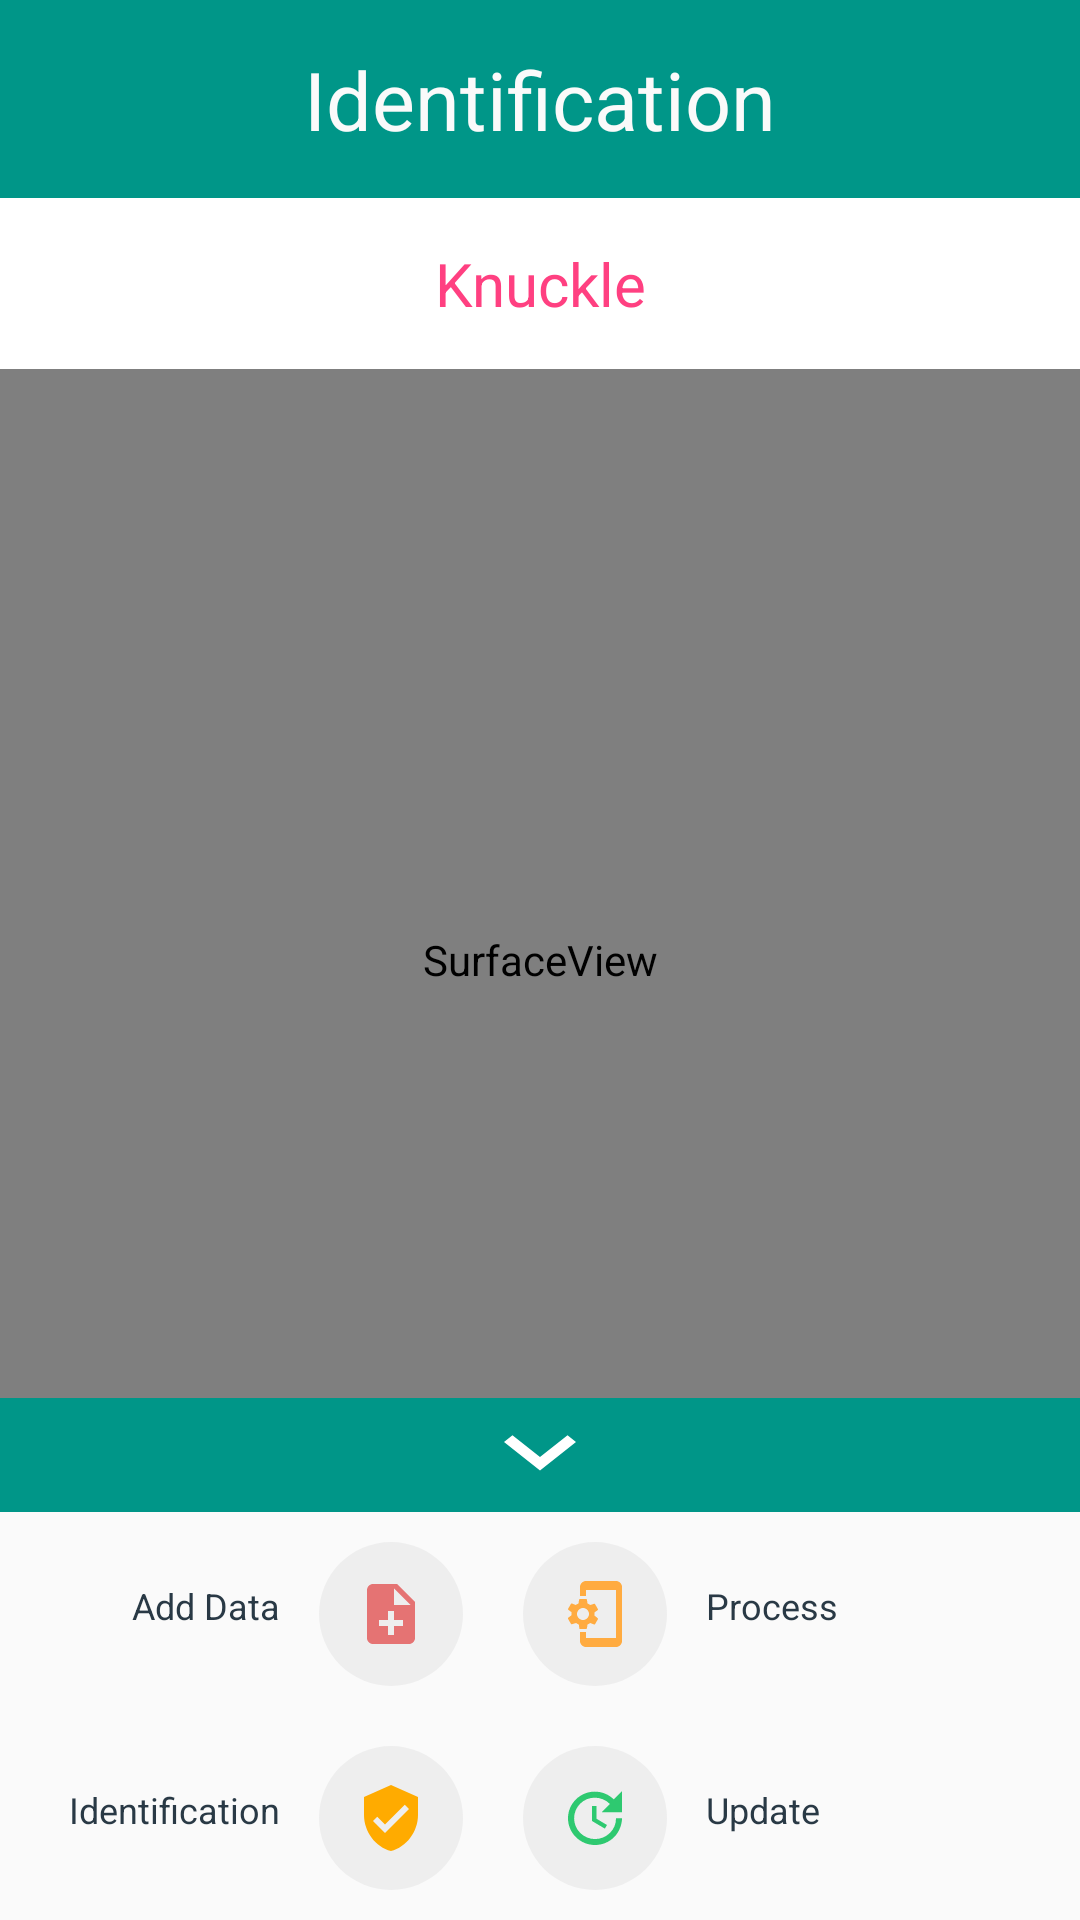

Point at icon controls on the screen. Image size 1080 x 1920, points as [x,y].
add file: [391,1614]
